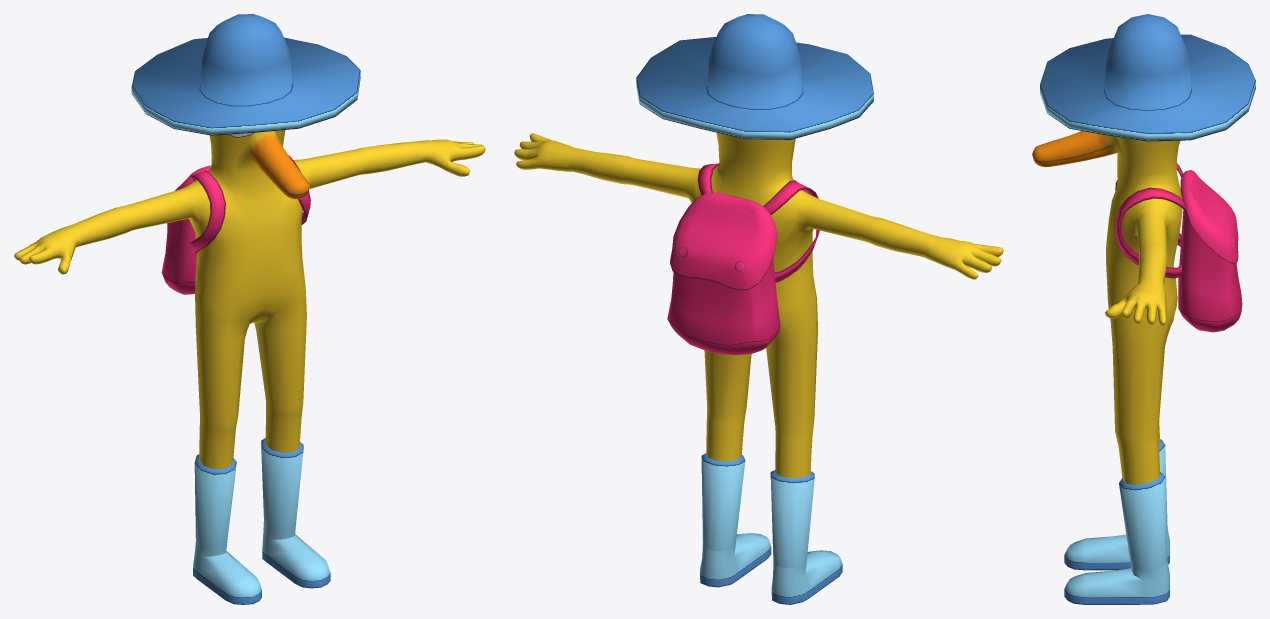
Rendered from DUCKVR.gltf.
3 renders of one model, left to right at view 1: azimuth 30°, elevation 25°; view 2: azimuth 150°, elevation 25°; view 3: azimuth 270°, elevation 25°, orthographic. The views are drawn at different scales.
Parts seen in each view (by area): view 1: Duck; view 2: Duck; view 3: Duck.
Part boxes in pixels (x1=…): Duck: x1=14, y1=14, x2=485, y2=604; Duck: x1=514, y1=14, x2=1003, y2=604; Duck: x1=1032, y1=14, x2=1255, y2=604.
Bounding box in the file's own units: 3.46 × 3.92 × 1.42.
1 material, 1 textured.
